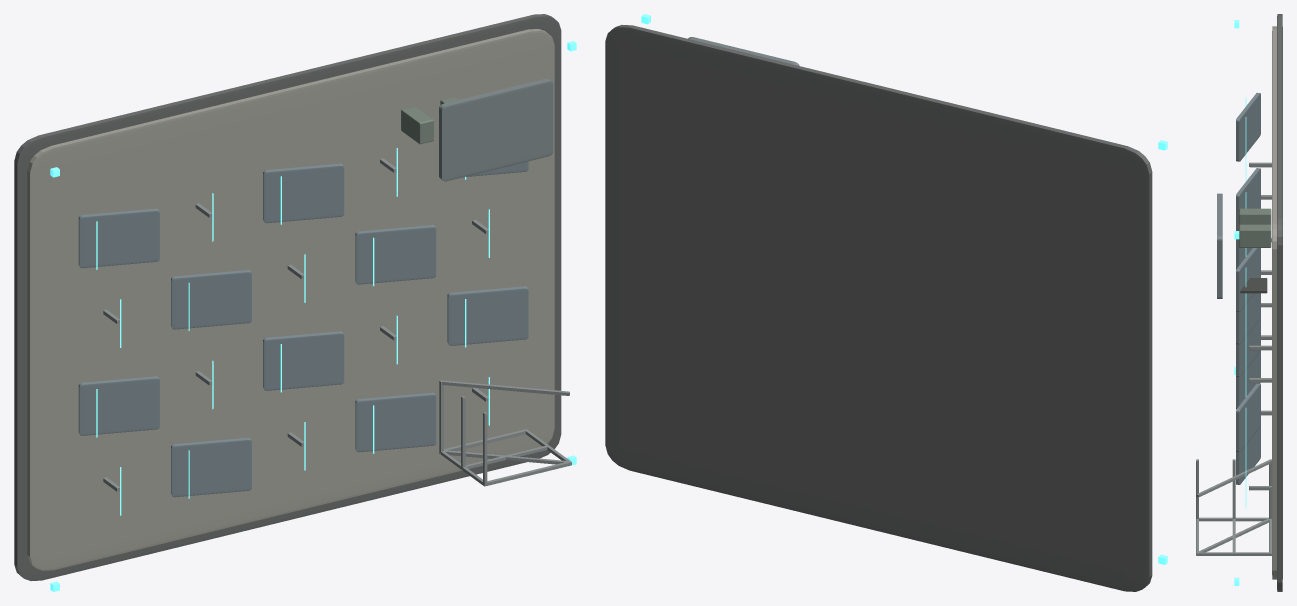
The model's file is b-03-solar-array-lod2.glb.
The picture shows the model from 3 angles, left to right: view 1: azimuth 30°, elevation 25°; view 2: azimuth 150°, elevation 25°; view 3: azimuth 270°, elevation 25°; orthographic projection. The views are drawn at different scales.
Visible parts, largest first — view 1: foundation_inner_pad, foundation, inverter_house_roof, solar_1_0_panel, solar_3_0_panel, solar_1_4_panel, solar_2_3_panel, solar_3_2_panel, solar_0_3_panel, solar_0_1_panel, solar_1_2_panel, solar_2_1_panel (+1 smaller); view 2: foundation; view 3: foundation, foundation_inner_pad, solar_1_4_panel, solar_3_0_panel, solar_3_4_panel, solar_3_2_panel, solar_2_3_panel, inverter_2, solar_1_2_panel, solar_0_3_panel, solar_0_1_panel, inverter_house_roof (+10 smaller).
Boxes of the visible parts, <box> form: foundation_inner_pad: <box>27,29,554,570</box>; foundation: <box>14,14,561,580</box>; inverter_house_roof: <box>439,78,553,181</box>; solar_1_0_panel: <box>78,376,159,435</box>; solar_3_0_panel: <box>78,208,159,268</box>; solar_1_4_panel: <box>447,286,528,345</box>; solar_2_3_panel: <box>355,225,436,284</box>; solar_3_2_panel: <box>263,163,344,223</box>; solar_0_3_panel: <box>355,392,436,452</box>; solar_0_1_panel: <box>171,437,251,497</box>; solar_1_2_panel: <box>263,331,344,390</box>; solar_2_1_panel: <box>171,270,251,329</box>; foundation: <box>605,25,1152,591</box>; foundation: <box>1277,14,1282,591</box>; foundation_inner_pad: <box>1272,26,1276,579</box>; solar_1_4_panel: <box>1236,383,1260,452</box>; solar_3_0_panel: <box>1236,92,1260,161</box>; solar_3_4_panel: <box>1236,248,1260,312</box>; solar_3_2_panel: <box>1236,168,1260,230</box>; solar_2_3_panel: <box>1236,293,1260,344</box>; inverter_2: <box>1239,224,1271,247</box>; solar_1_2_panel: <box>1236,317,1260,377</box>; solar_0_3_panel: <box>1236,425,1260,484</box>; solar_0_1_panel: <box>1236,350,1260,409</box>; inverter_house_roof: <box>1217,193,1222,298</box>.
Size of what is drawn, in the model's own units: 18 by 14 by 2.97.
